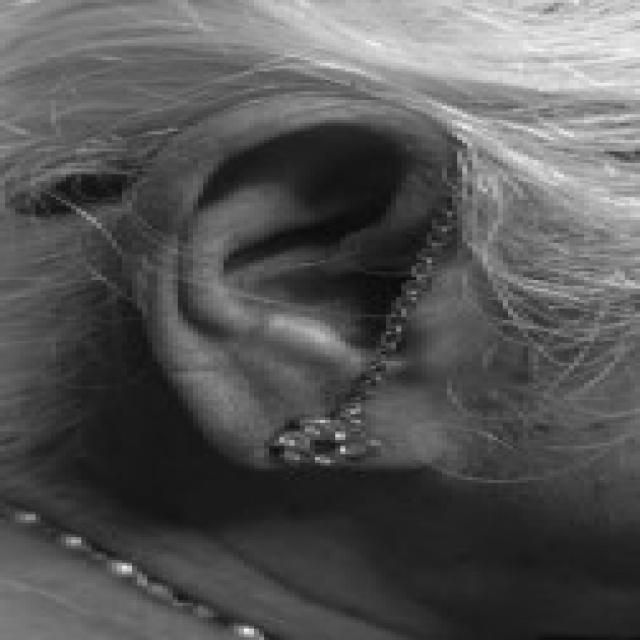ear: (137, 97, 442, 466), (371, 446, 396, 466), (371, 426, 396, 437)
